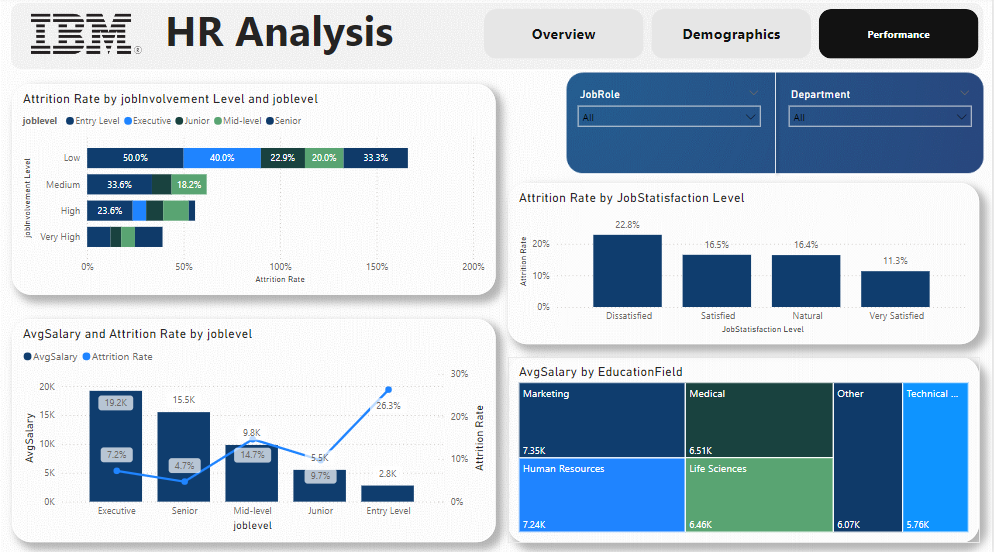

The page's visual inventory and layout, read from the dashboard file:
{"tool":"powerbi","page":{"name":"Performance","canvas":[1280,720],"ordinal":2},"visuals":[{"type":"treemap","fields":{"Group":["WA_Fn-UseC_-HR-Employee-Attrition.EducationField"],"Values":["Measurments.AvgSalary"]},"box":[656,464,608,240],"z":0},{"type":"slicer","fields":{"Values":["WA_Fn-UseC_-HR-Employee-Attrition.Department"]},"box":[1008,112,256,112],"z":1},{"type":"slicer","fields":{"Values":["WA_Fn-UseC_-HR-Employee-Attrition.JobRole"]},"box":[736,112,256,112],"z":2},{"type":"lineClusteredColumnComboChart","fields":{"Y":["Measurments.AvgSalary"],"Y2":["Measurments.Attrition Rate"],"Category":["WA_Fn-UseC_-HR-Employee-Attrition.joblevel "]},"box":[16,416,624,288],"z":3},{"type":"clusteredColumnChart","fields":{"Category":["WA_Fn-UseC_-HR-Employee-Attrition.JobStatisfaction Level"],"Y":["Measurments.Attrition Rate"]},"box":[656,240,608,208],"z":5},{"type":"barChart","fields":{"Category":["WA_Fn-UseC_-HR-Employee-Attrition.jobInvolvement Level "],"Y":["Measurments.Attrition Rate"],"Series":["WA_Fn-UseC_-HR-Employee-Attrition.joblevel "]},"box":[16,112,624,272],"z":6},{"type":"pageNavigator","box":[624,16,640,64],"z":7},{"type":"textbox","box":[208,0,320,96],"z":8},{"type":"image","box":[16,16,192,64],"z":9}]}

Visuals, with their boxes in screenshot pixels (x1, y1, x2, y2), scaled from the page's 1280x720 canvas onto the 994x552 screenshot:
treemap - WA_Fn-UseC_-HR-Employee-Attrition.EducationField x Measurments.AvgSalary: 509:356:982:540
slicer - WA_Fn-UseC_-HR-Employee-Attrition.Department: 783:86:982:172
slicer - WA_Fn-UseC_-HR-Employee-Attrition.JobRole: 572:86:770:172
lineClusteredColumnComboChart - Measurments.AvgSalary x Measurments.Attrition Rate: 12:319:497:540
clusteredColumnChart - WA_Fn-UseC_-HR-Employee-Attrition.JobStatisfaction Level x Measurments.Attrition Rate: 509:184:982:343
barChart - WA_Fn-UseC_-HR-Employee-Attrition.jobInvolvement Level  x Measurments.Attrition Rate: 12:86:497:294
pageNavigator: 485:12:982:61
textbox: 162:0:410:74
image: 12:12:162:61
